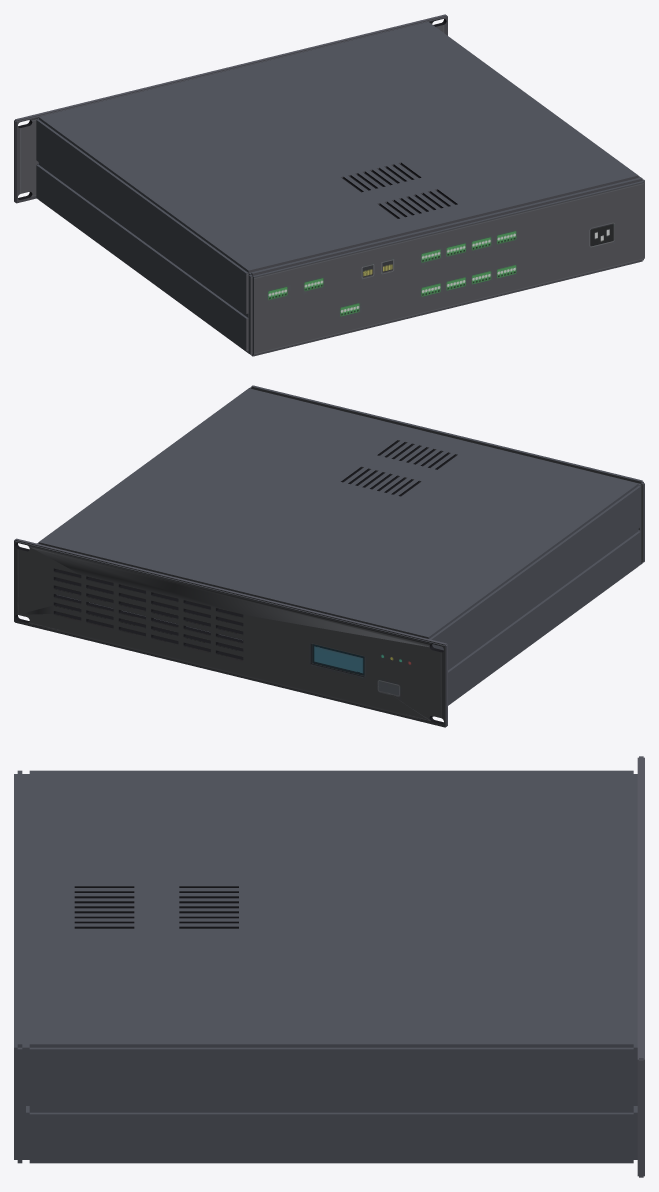
The model's file is yamaha-xmv8280-d.glb.
The picture shows the model from 3 angles, top to bottom: view 1: azimuth 30°, elevation 25°; view 2: azimuth 150°, elevation 25°; view 3: azimuth 270°, elevation 25°; orthographic projection. The views are drawn at different scales.
Visible parts, largest first — view 1: yamaha-xmv8280-d-body; view 2: yamaha-xmv8280-d-body; view 3: yamaha-xmv8280-d-body.
Boxes of the visible parts, x1,y1,x2,y2 form: yamaha-xmv8280-d-body: (14,14,644,356); yamaha-xmv8280-d-body: (14,385,644,727); yamaha-xmv8280-d-body: (14,756,644,1177).
Bounding box in the file's own units: 0.48 × 0.088 × 0.422.
Materials: 1 (1 with a texture image).
